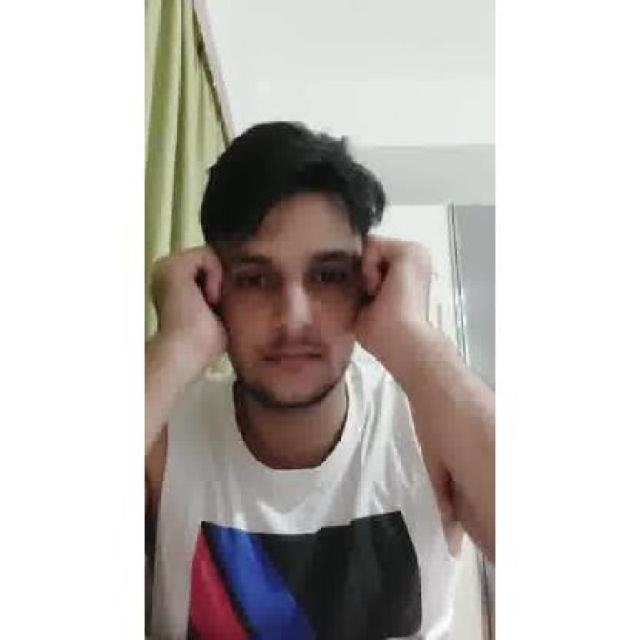attentif: (210, 120, 359, 412)
